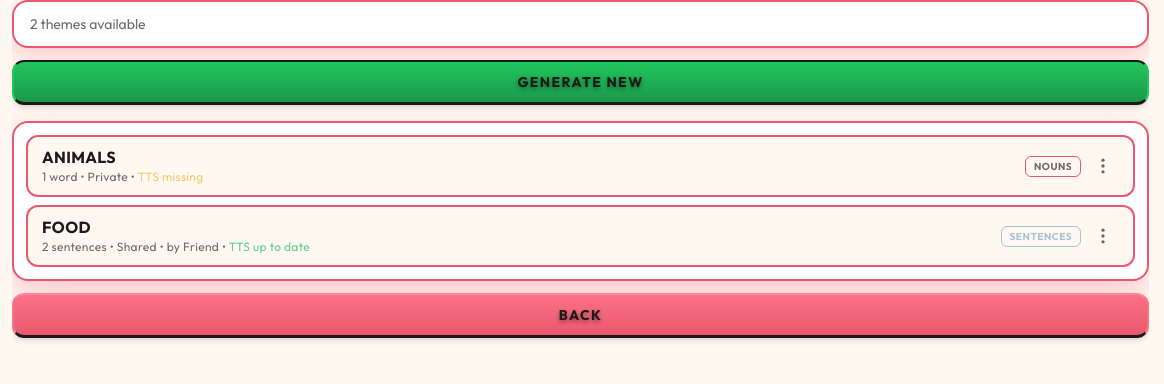
Test: theme lists and card menus › toggles the card archive action (archived=false)
The width and height of the screenshot is (1164, 384).
Click the button with test id "theme-menu-button-word".
click(1103, 166)  # box top-left (1087, 150), bottom-right (1119, 182)
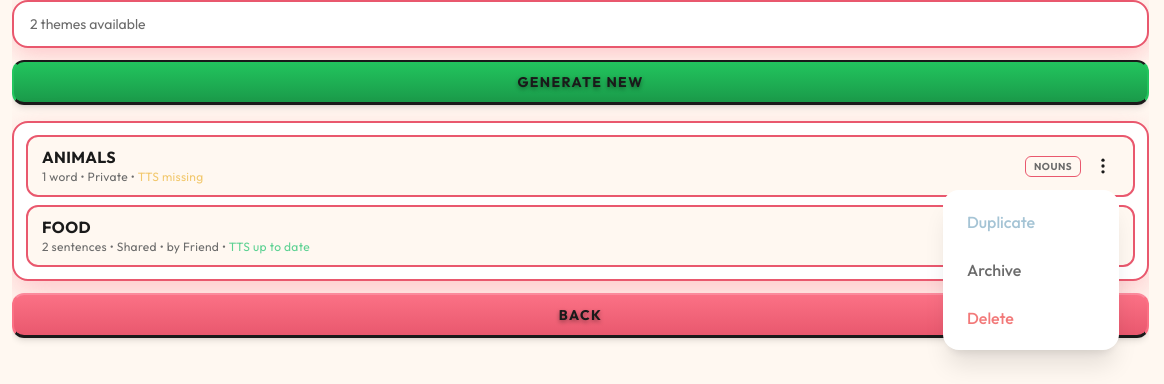
Check: the menu item with test id "theme-archive-toggle-word" reads "Archive"
Click the menu item with test id "theme-archive-toggle-word".
click(1031, 270)  # box top-left (951, 246), bottom-right (1111, 294)
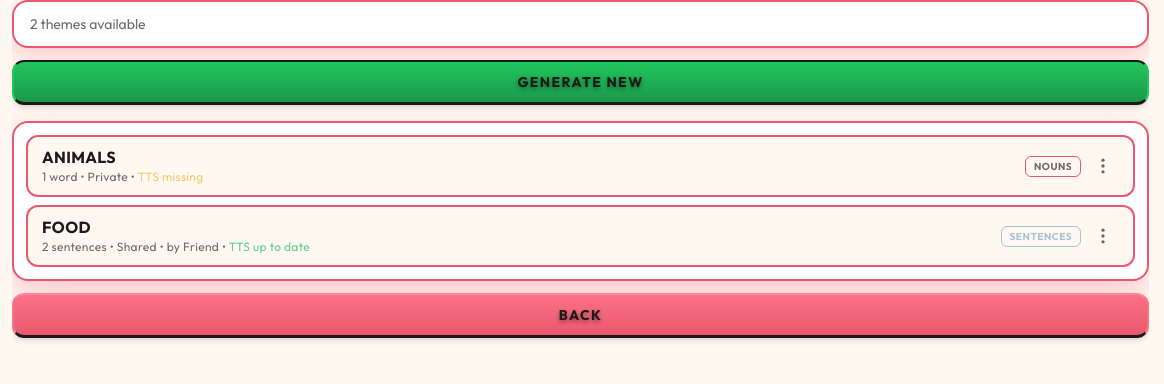
Check: the menu with test id "theme-menu-word" is gone
